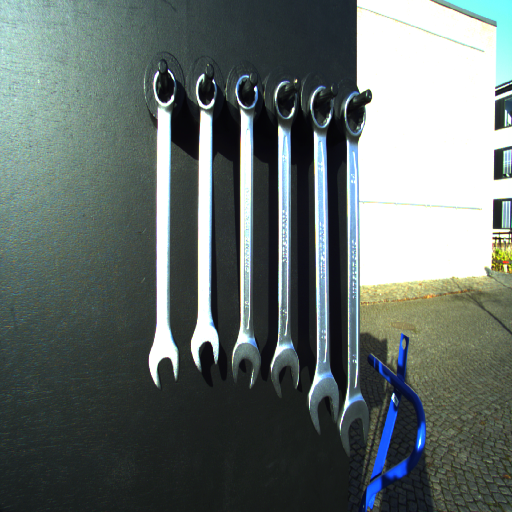bottom: (307, 377, 340, 437), (338, 401, 370, 458), (147, 341, 182, 390), (268, 350, 301, 398), (230, 341, 261, 392), (188, 325, 220, 372)
top: (339, 88, 367, 143), (308, 84, 335, 134), (271, 78, 299, 124), (150, 68, 179, 109), (233, 73, 260, 117), (193, 71, 220, 111)
